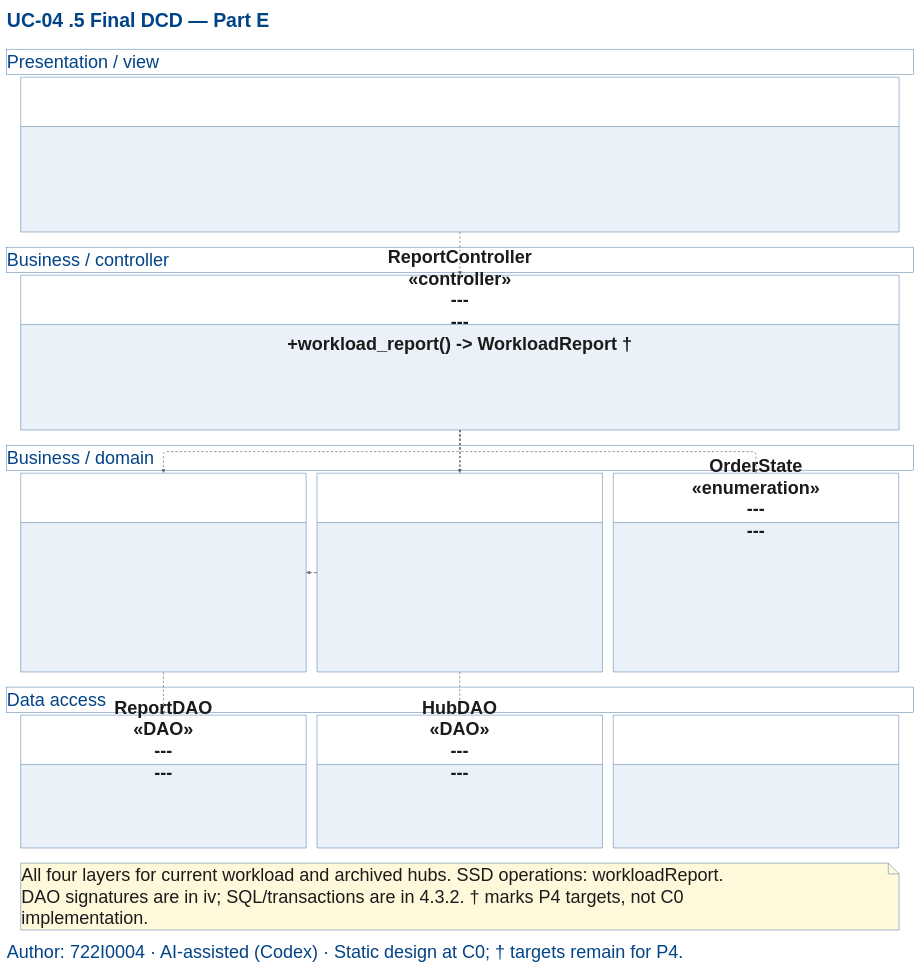
Image size: 920x969. Some labels were removed from this diagram. Here are the shapes that lost their labels. From the top down, the box of each, then its label:
(20, 77, 899, 232): reports «view» --- --- +workload() *
(20, 473, 306, 672): Hub «entity» --- ---
(317, 473, 602, 672): HubStatus «entity» --- --- +busy: bool +quiet: bool +load_percent: int
(613, 715, 899, 848): UserDAO «DAO» --- ---
